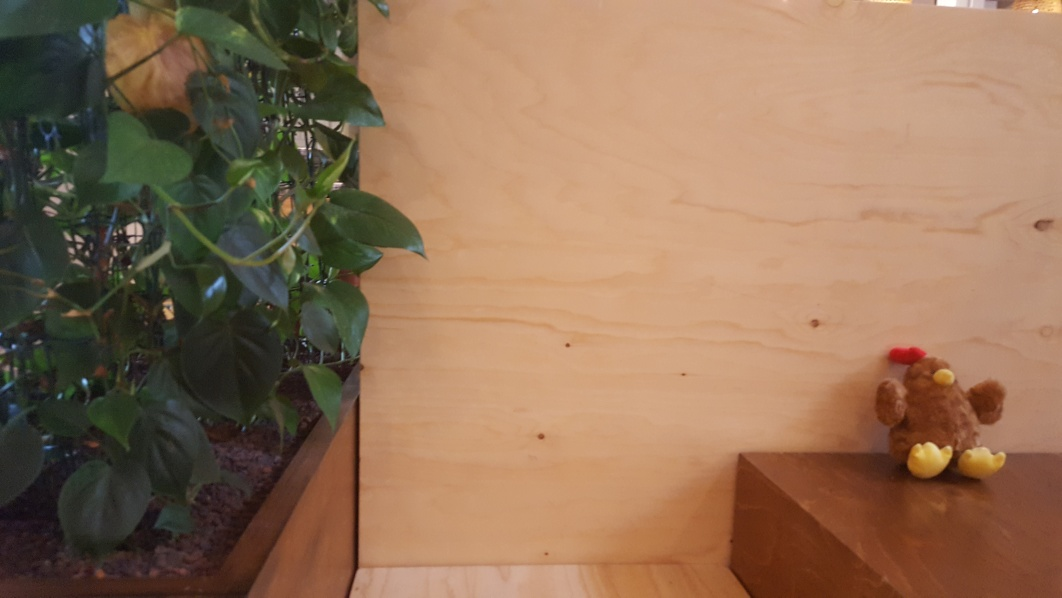chicken: (870, 338, 1011, 480)
